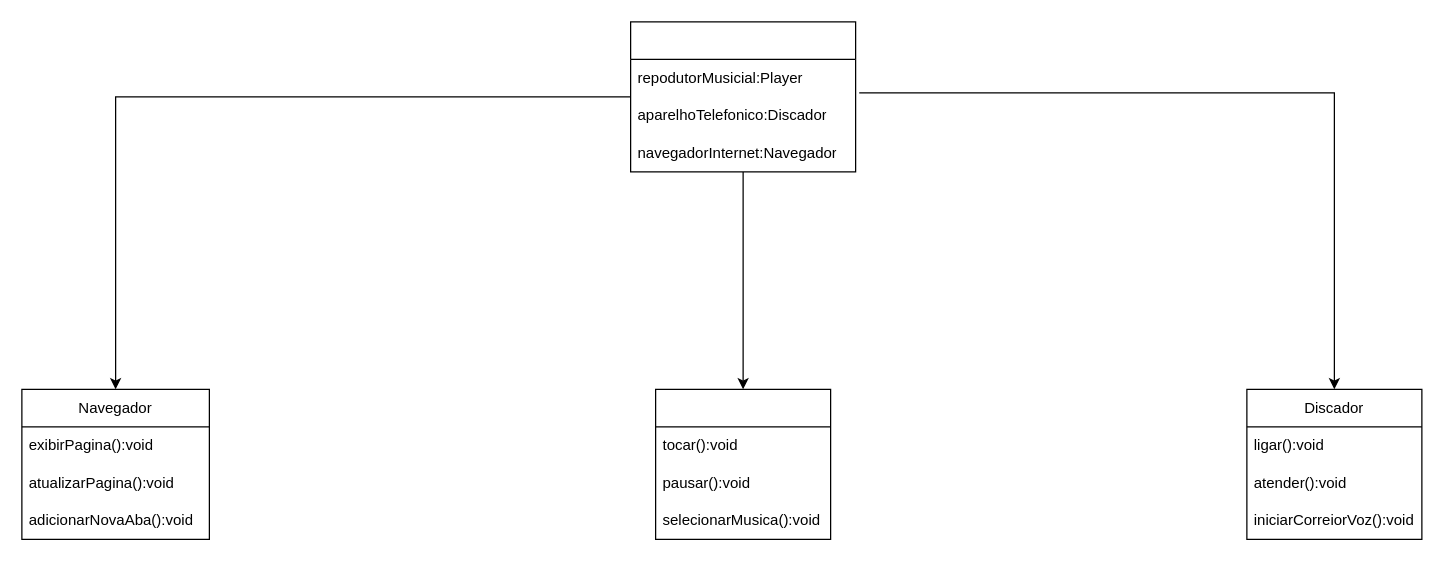
The diagram is 1444 pixels wide and 561 high, and some of its shapes have lost their labels. The shapes that lost their labels are listed below. From the top down, each one's box as (x1, y1, x2, y2) in pixels, then its label:
(629, 21, 856, 172): Iphone
(654, 388, 831, 539): Player
